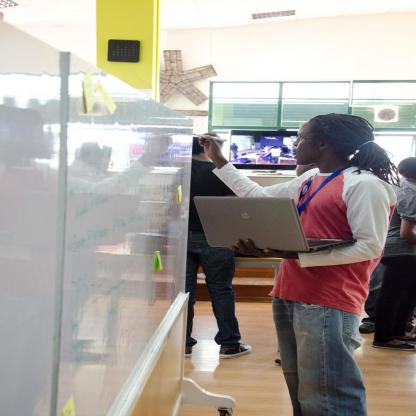board: (192, 195, 360, 253)
